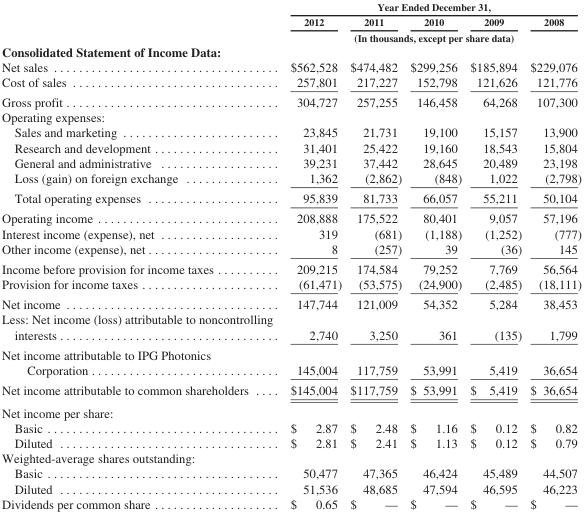table: (1, 0, 581, 510)
table column: (1, 0, 280, 510), (280, 0, 345, 510), (345, 0, 405, 510), (405, 0, 465, 510), (465, 0, 525, 510), (525, 0, 581, 510)
table column header: (1, 0, 581, 43)
table projected row header: (1, 401, 581, 420), (1, 344, 581, 361), (1, 43, 581, 58), (1, 109, 581, 124), (1, 450, 581, 465)
table row: (1, 311, 581, 344), (1, 379, 581, 401), (1, 187, 581, 207), (1, 401, 581, 420), (1, 91, 581, 109), (1, 207, 581, 225), (1, 240, 581, 258), (1, 258, 581, 276), (1, 293, 581, 311), (1, 361, 581, 379), (1, 74, 581, 91), (1, 170, 581, 187), (1, 276, 581, 293), (1, 344, 581, 361), (1, 58, 581, 74), (1, 154, 581, 170), (1, 14, 581, 29), (1, 43, 581, 58), (1, 109, 581, 124), (1, 124, 581, 139), (1, 139, 581, 154), (1, 225, 581, 240), (1, 420, 581, 435), (1, 435, 581, 450), (1, 450, 581, 465), (1, 465, 581, 480), (1, 480, 581, 495), (1, 495, 581, 510), (1, 0, 581, 14), (1, 29, 581, 43)
table spanning cell: (280, 0, 581, 14), (280, 29, 581, 43)
